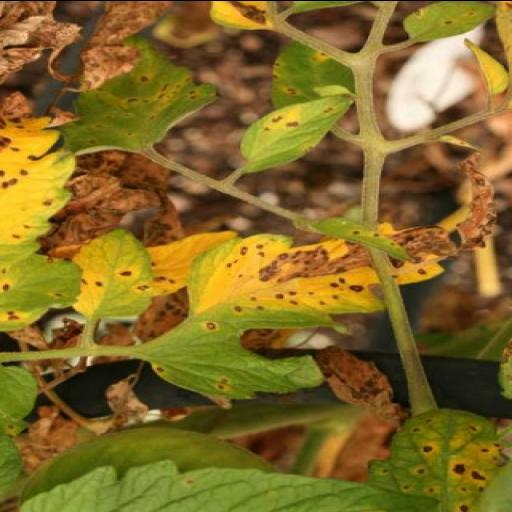Septoria: (130, 152, 500, 400), (0, 85, 88, 338), (54, 32, 218, 158), (364, 407, 512, 512), (58, 226, 164, 324), (237, 90, 359, 172)
